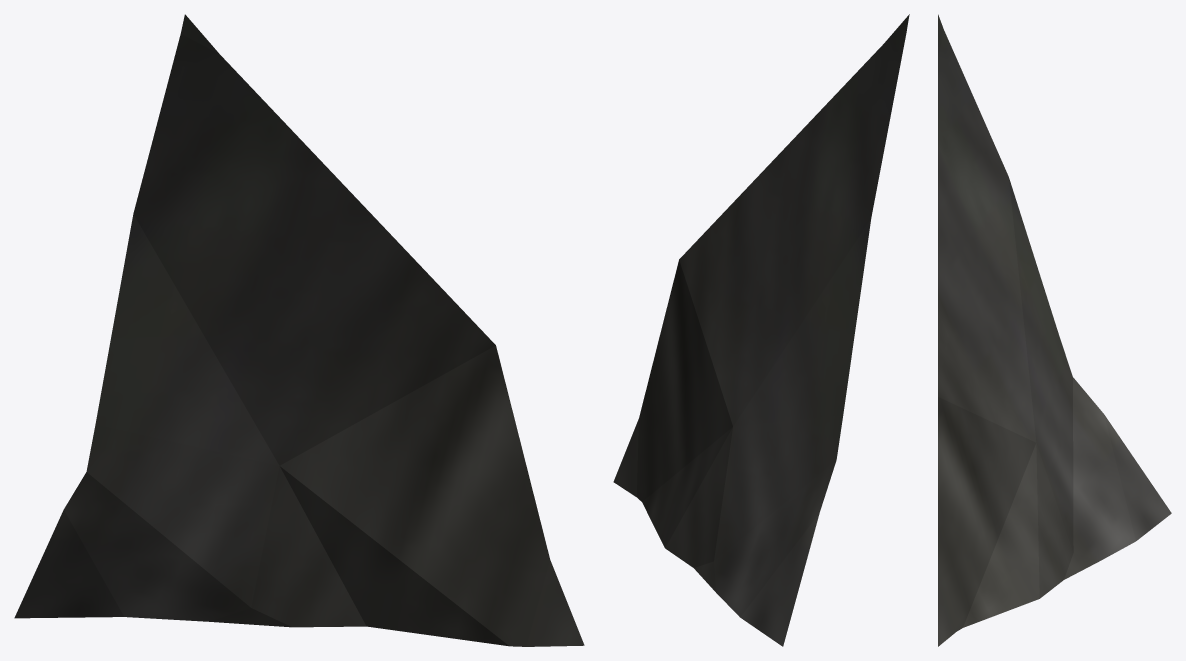
3 renders of one model, left to right at view 1: azimuth 30°, elevation 25°; view 2: azimuth 150°, elevation 25°; view 3: azimuth 270°, elevation 25°, orthographic. The views are drawn at different scales.
Bounding box in the file's own units: 0.317 × 0.5527 × 0.2345.
1 material, 1 textured.
